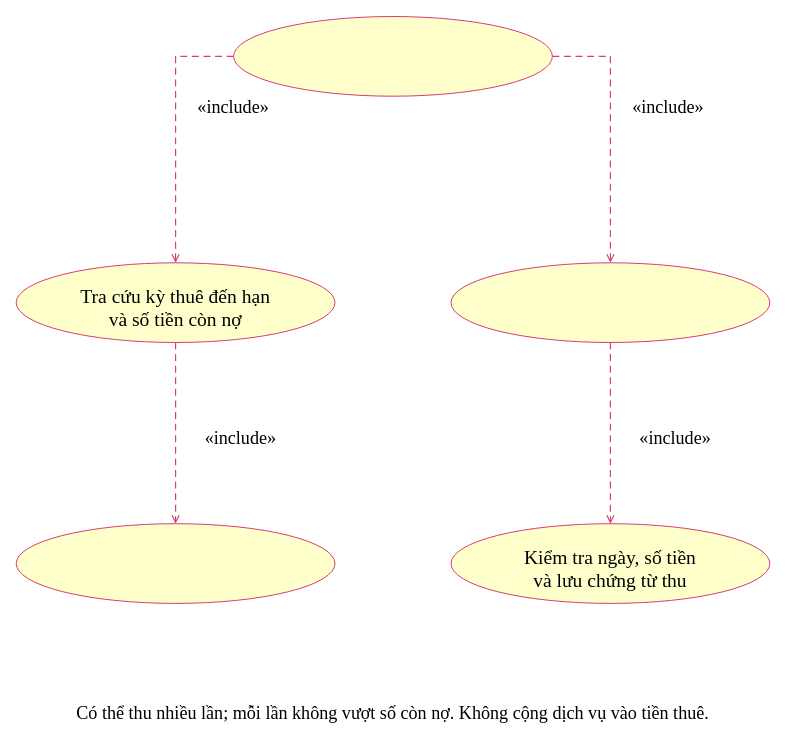
Some shapes in this 786 by 740 pixel diagram are drawn without their labels. Here are the shapes that lost their labels. From the top down, the centre of each, then its label:
At [392,56]: "Thu tiền thuê từ tháng thứ 7".
At [610,302]: "Ghi nhận thanh toán tiền thuê".
At [175,563]: "Chọn hợp đồng và phòng thuê".
